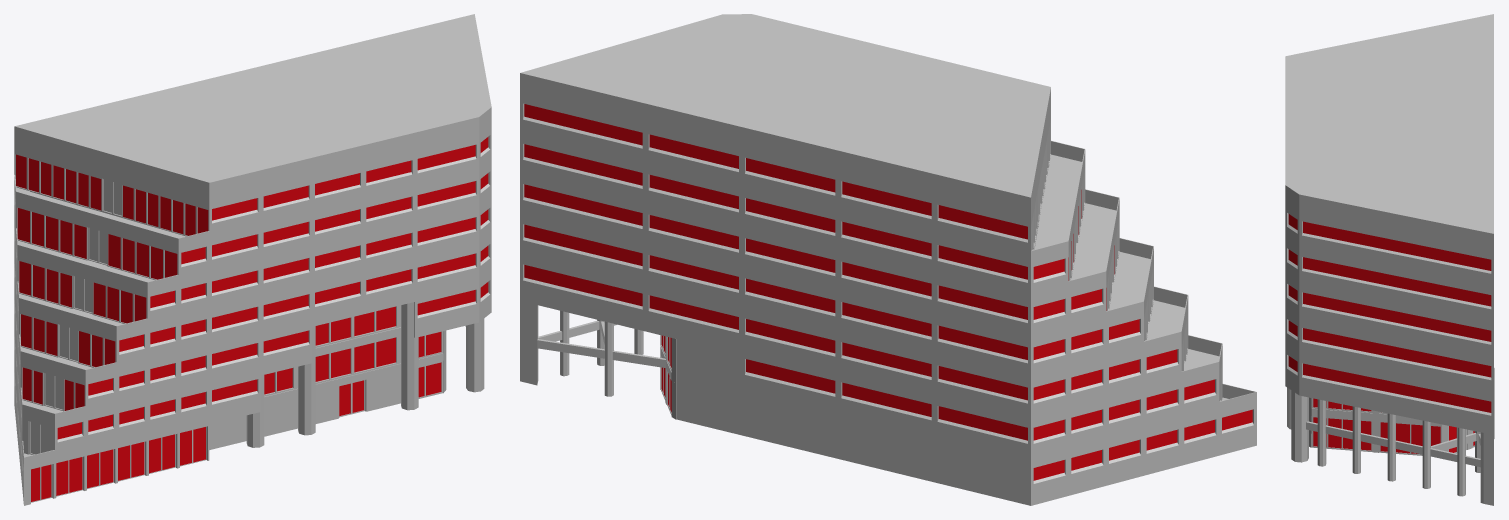
Rendered from SM_House_05.gltf.
The picture shows the model from 3 angles, left to right: view 1: azimuth 30°, elevation 25°; view 2: azimuth 150°, elevation 25°; view 3: azimuth 270°, elevation 25°; orthographic projection. The views are drawn at different scales.
Parts seen in each view (by area): view 1: House_05; view 2: House_05; view 3: House_05.
Part boxes in pixels (left/top/right/bottom): House_05: left=14, top=14, right=491, bottom=505; House_05: left=520, top=14, right=1256, bottom=505; House_05: left=1285, top=14, right=1494, bottom=505.
Bounding box in the file's own units: 48.28 × 23 × 16.04.
